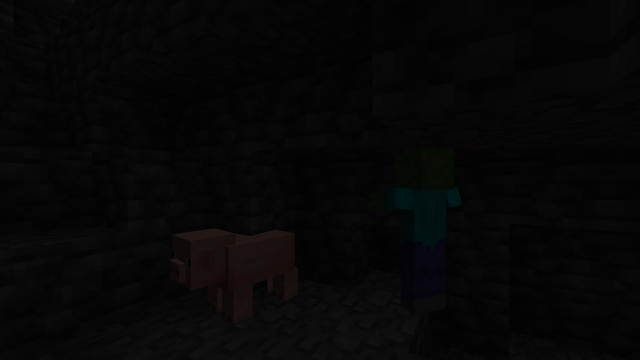cochons: (199, 228, 298, 328)
zombies: (393, 150, 450, 324)
